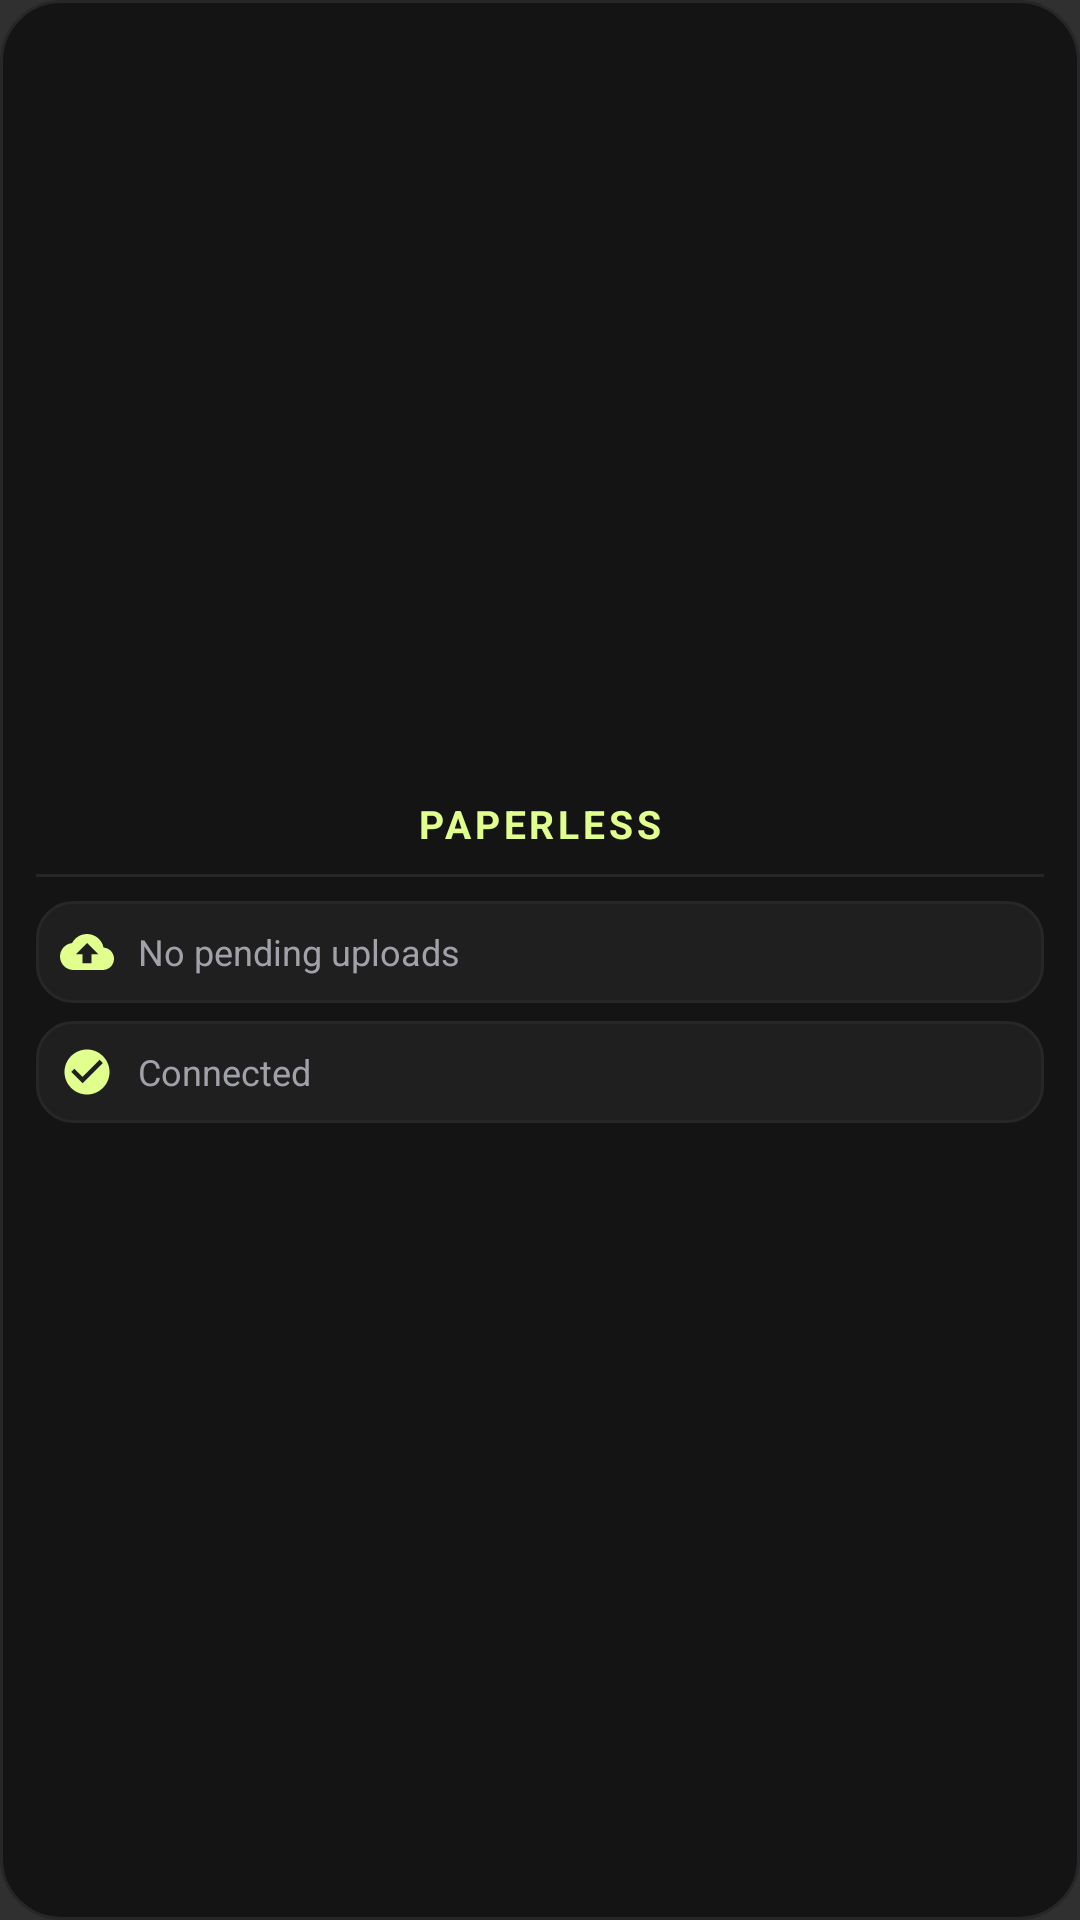

Icon click points for this 1080 × 1920 phone screenshot, format (x,y):
cloud upload: (87,952)
widget status online: (87,1072)
